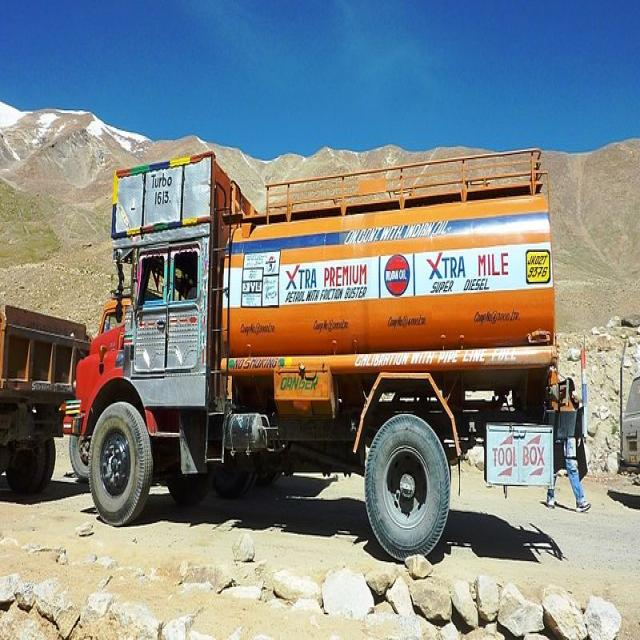truck: (64, 151, 575, 559)
